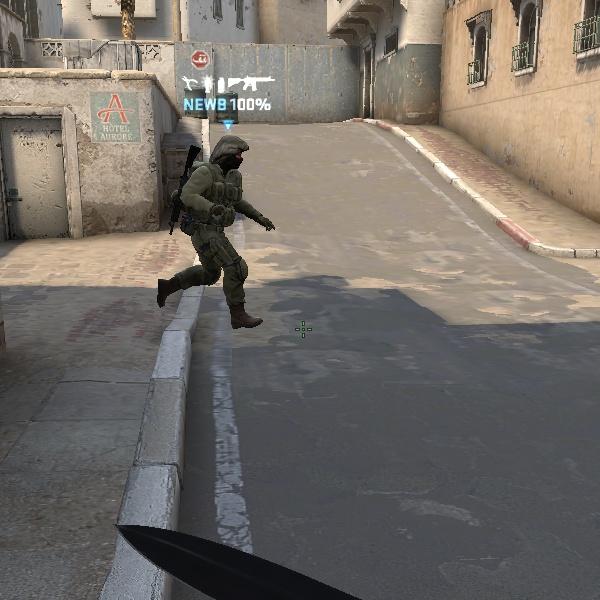ct_body: (160, 135, 271, 333)
ct_head: (202, 133, 252, 186)
